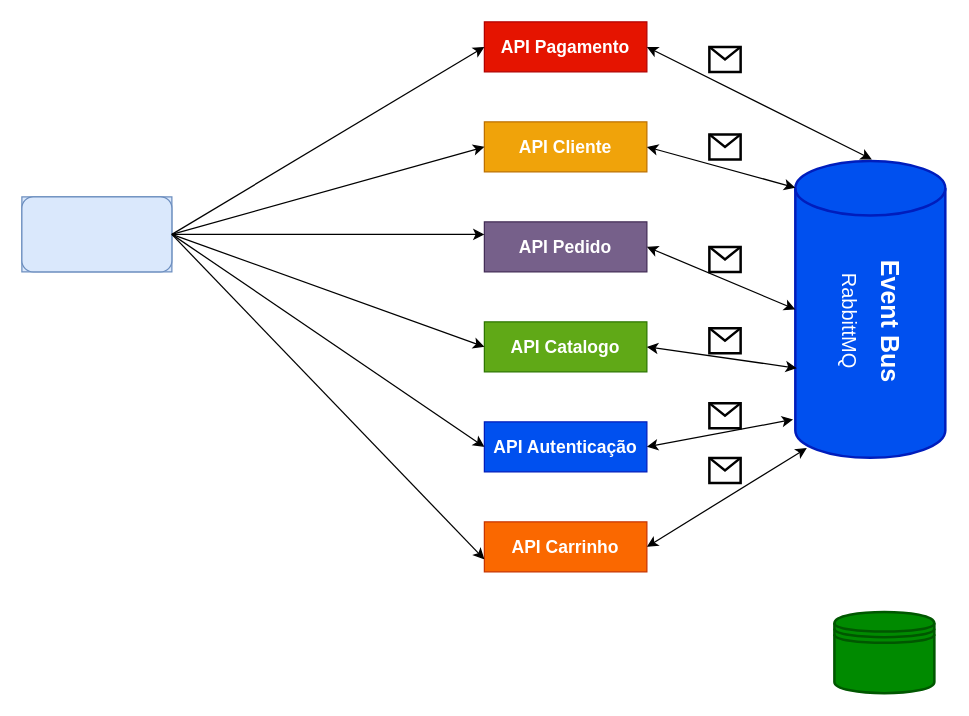
The diagram is 969 pixels wide and 716 high, and some of its shapes have lost their labels. The shapes that lost their labels are listed below. From the top down, each one's box as (x1, y1, x2, y2) in pixels, then its label:
(21, 196, 172, 272): WebApp MVC
(832, 610, 935, 694): SQL Server
